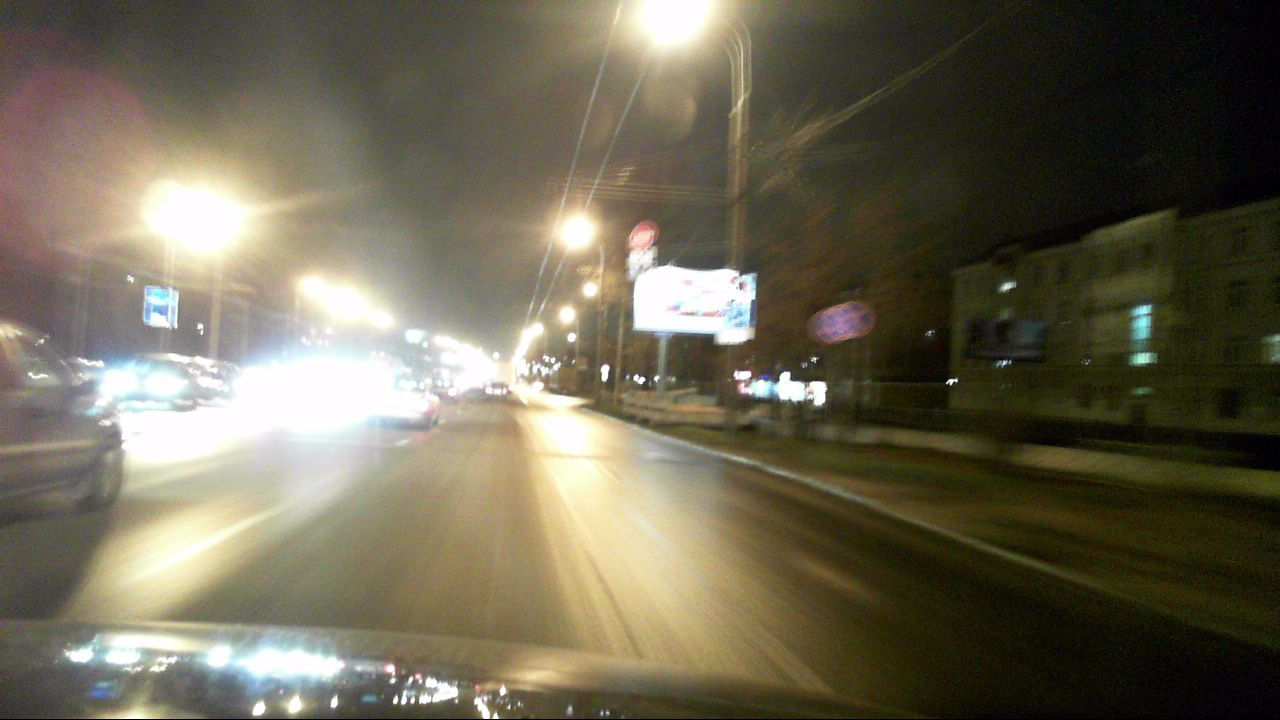No Parking: (836, 301, 872, 336)
